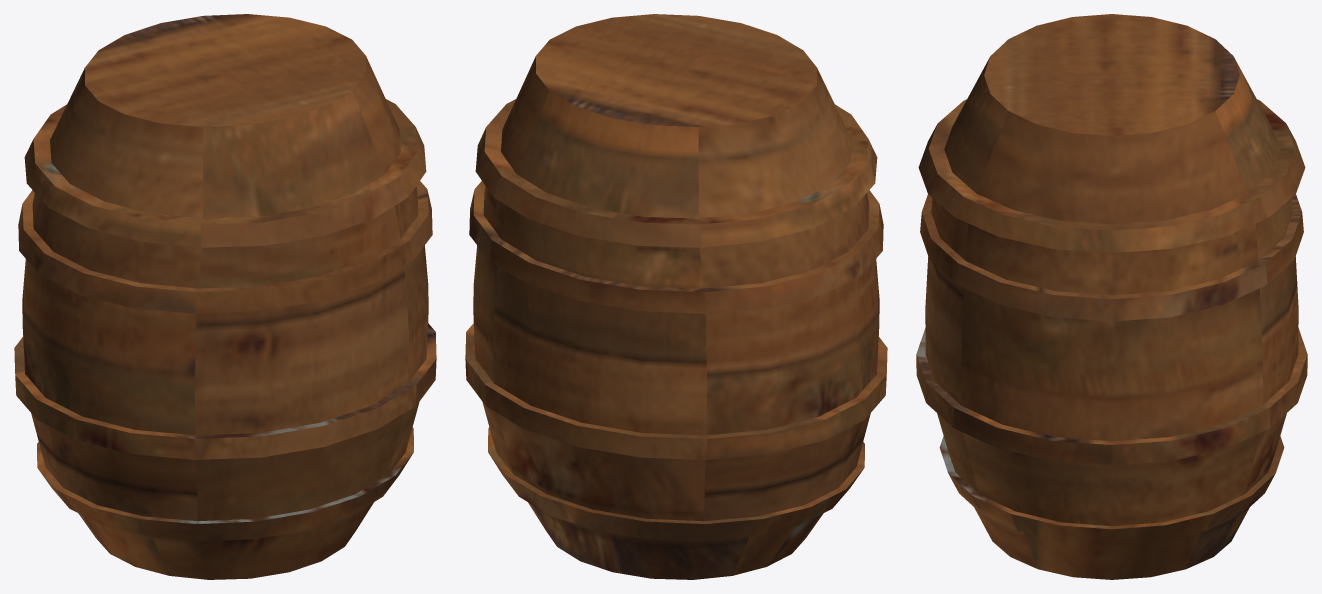
File: Barrel.fbx
3 renders of one model, left to right at view 1: azimuth 30°, elevation 25°; view 2: azimuth 150°, elevation 25°; view 3: azimuth 270°, elevation 25°, orthographic.
Visible parts, largest first — view 1: Barrel; view 2: Barrel; view 3: Barrel.
Part boxes in pixels (<box>): Barrel: <box>14,14,436,579</box>; Barrel: <box>465,14,887,579</box>; Barrel: <box>916,14,1307,579</box>.
Bounding box in the file's own units: 1.8 × 2.07 × 1.63.
Materials: 1 (1 with a texture image).
